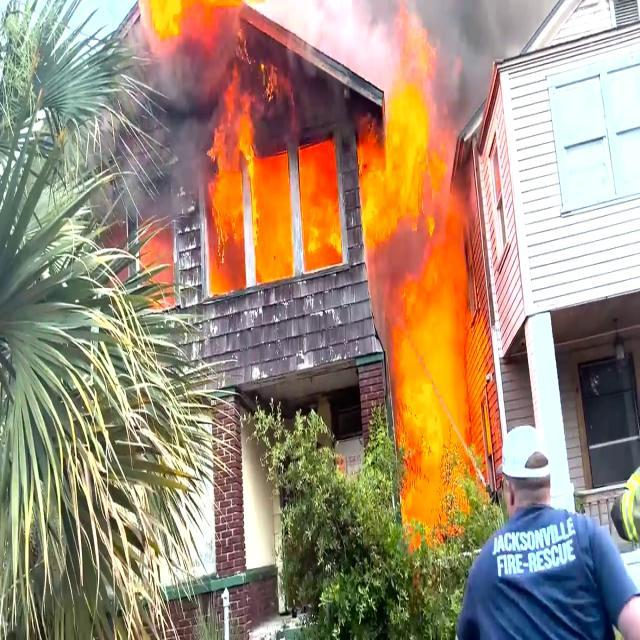Fire: (362, 79, 487, 545), (210, 83, 243, 294), (298, 148, 348, 259), (250, 166, 291, 280)
Smoke: (433, 2, 579, 102)
